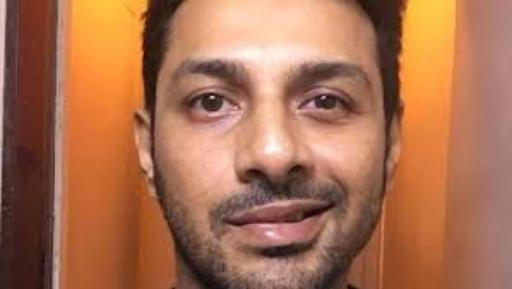left_eye: (298, 94, 355, 116)
left_lip_corner: (317, 200, 341, 215)
right_eye: (183, 93, 243, 115)
right_lip_corner: (221, 215, 247, 231)
